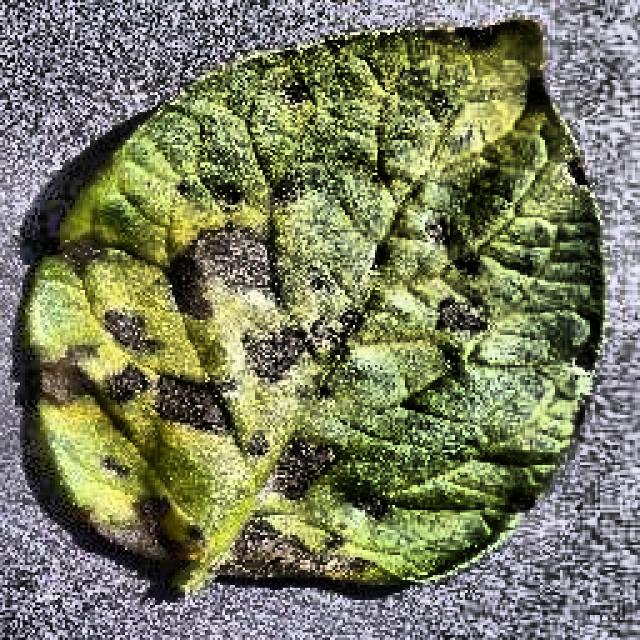Potato_leaf_early_blight: (30, 25, 602, 590), (248, 330, 305, 380)
